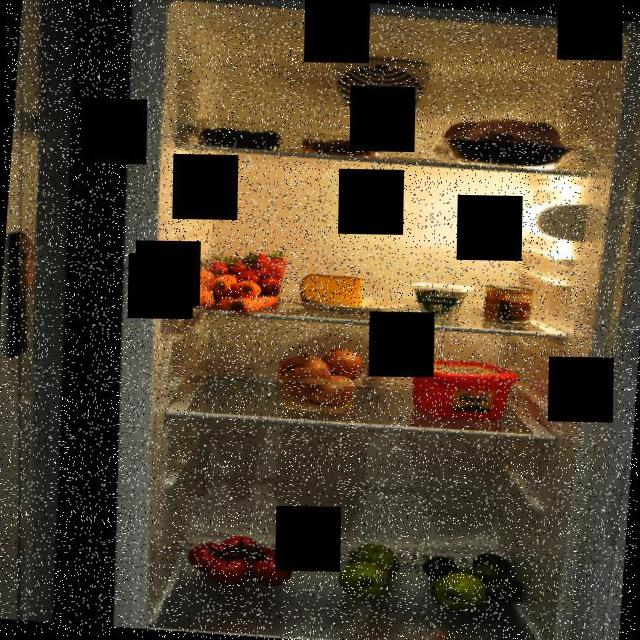Carne pollo: (432, 110, 574, 173)
Cebolla: (278, 341, 366, 410)
Gambas/Langostinos: (292, 134, 384, 162)
Mantequilla: (403, 354, 520, 425)
Manzana: (334, 533, 406, 604), (428, 570, 491, 615)
Queso: (296, 269, 368, 310), (406, 278, 478, 319)
Tomate: (182, 530, 304, 590)
Zanahoria: (162, 269, 282, 317)
blueberries: (194, 122, 282, 154)
corn: (480, 282, 534, 328)
strawberries: (204, 248, 285, 300)
